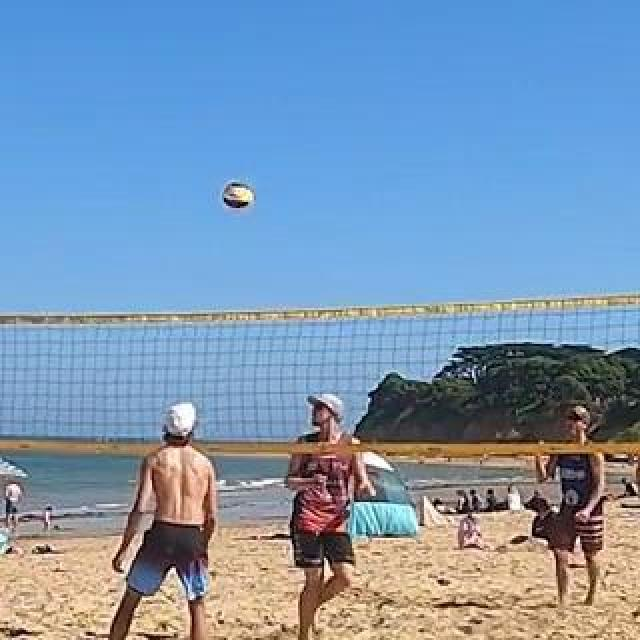volleyball: (223, 184, 253, 212)
